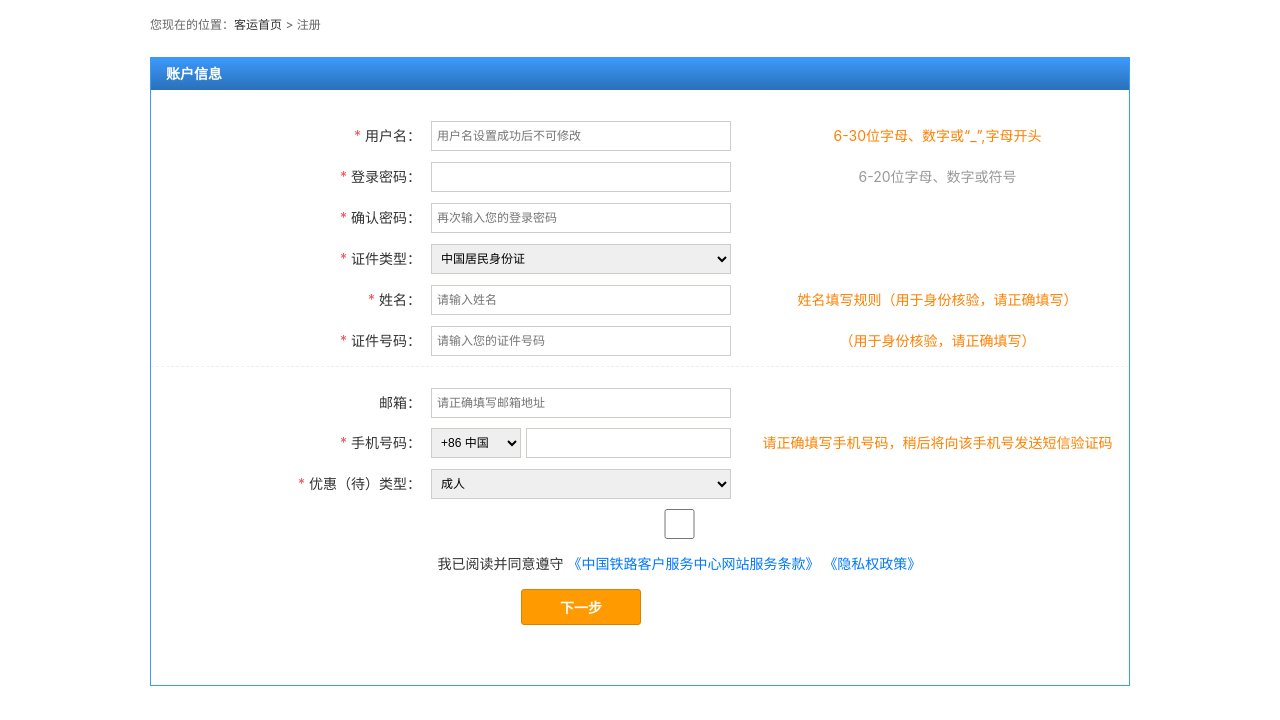
Test case: P004_Register 组件测试 - 实时验证反馈（密码强度） › 密码输入触发强度条显示并逐级激活
Type "abc123" into the password field named "password" at (581, 177), box 431,162 -> 731,192
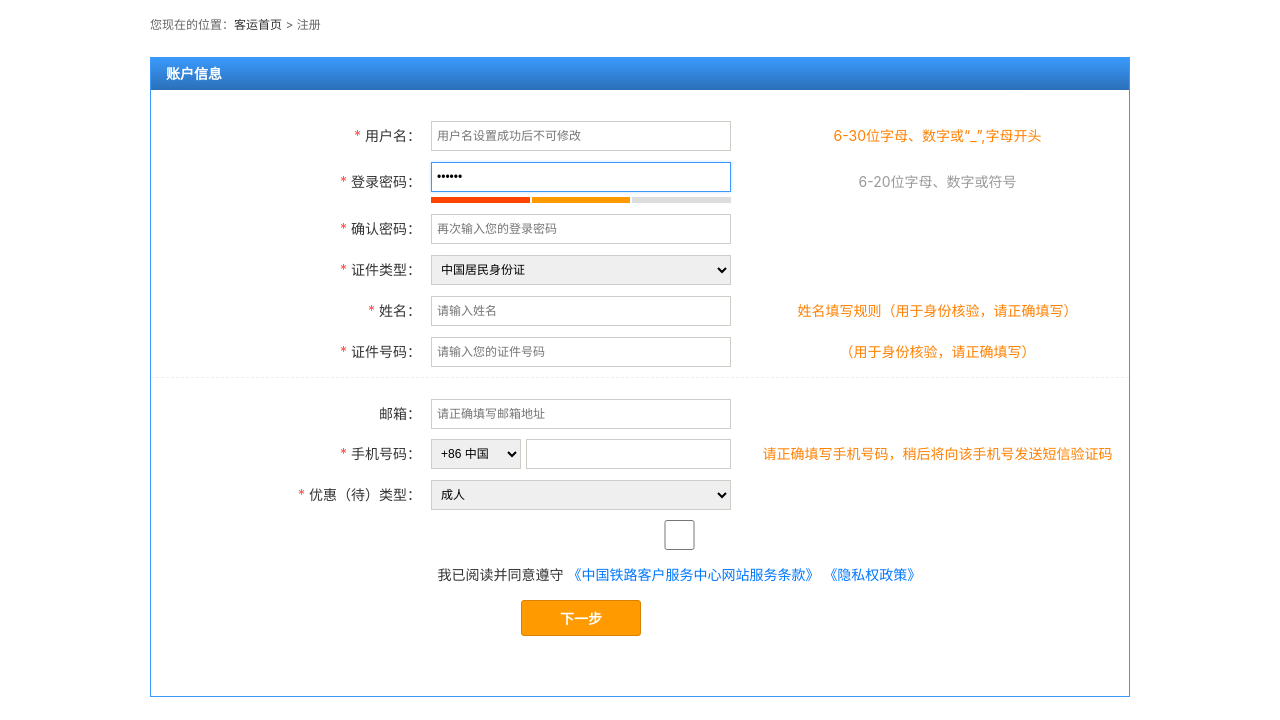
Expected: the number of elements with class "level" is 3, 431,197 -> 530,203; 532,197 -> 630,203; 632,197 -> 731,203
